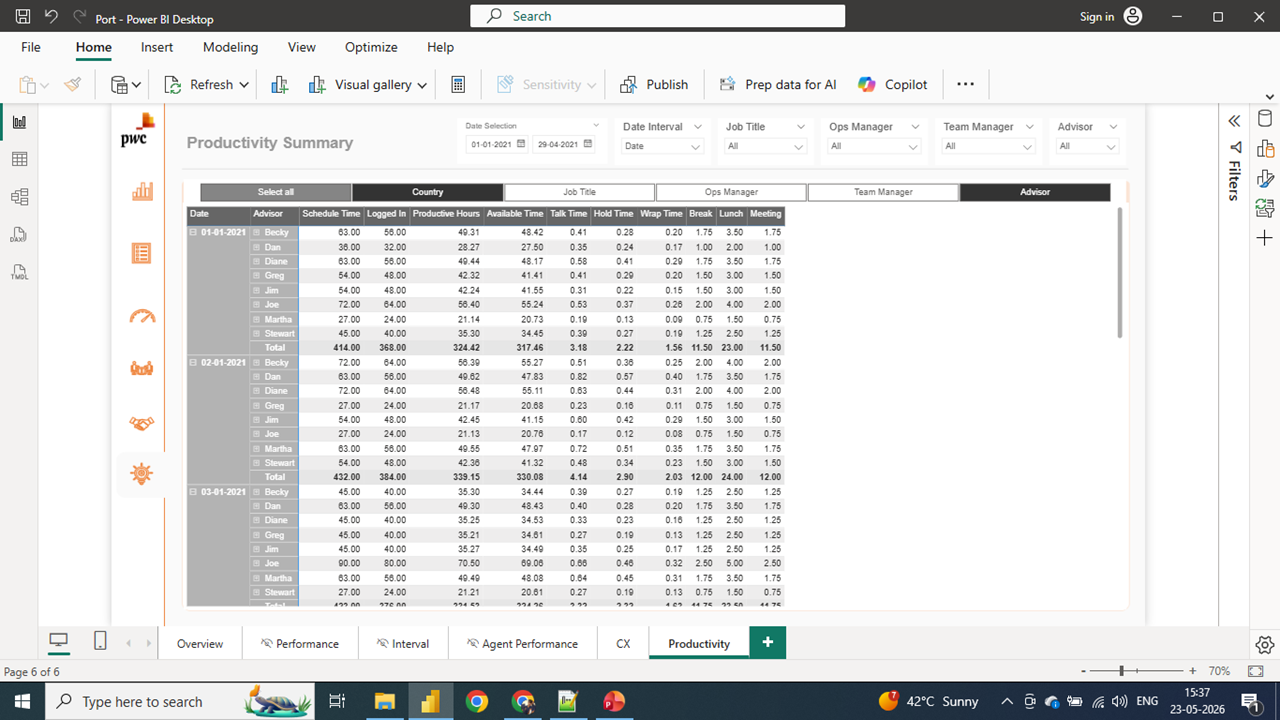

The dashboard page shown, as its layout file describes it:
{"tool":"powerbi","page":{"name":"Productivity","canvas":[1580,800],"ordinal":5},"visuals":[{"type":"slicer","fields":{"Values":["_P_Agent._P_Agent"]},"box":[109.9,115.8,1442.2,38.1],"z":0},{"type":"pivotTable","fields":{"Rows":["Date Calendar.Date","Emp.Employee Name","Emp.County"],"Values":["Measures (2).Schedule Time","Measures (2).Logged In","Measures (2).Productive Hours","Measures (2).Available Time","Measures (2).Talk Time","Measures (2).Hold Time","Measures (2).Wrap Time","Measures (2).Break","Measures (2).Lunch","Measures (2).Meeting"]},"box":[109.9,153.9,1442.2,621.4],"z":1},{"type":"textbox","box":[110.2,40.9,300,45.7],"z":2},{"type":"slicer","fields":{"Values":["_P_Date_Interval._P_Date_Interval"]},"box":[770.1,23.5,146.6,71.8],"z":3},{"type":"slicer","title":"Date Selection","fields":{"Values":["Date Calendar.Date"]},"box":[529.1,23.5,230.1,70.4],"z":4},{"type":"slicer","fields":{"Values":["Emp.Job Title"]},"box":[927.5,23.5,146.6,71.8],"z":5},{"type":"slicer","fields":{"Values":["Emp.Employee Name"]},"box":[1434.9,23.5,117.3,71.8],"z":6},{"type":"slicer","fields":{"Values":["Emp.Employee Name"]},"box":[1259.9,23.5,164.2,71.8],"z":7},{"type":"slicer","fields":{"Values":["Emp.Employee Name"]},"box":[1084.9,23.5,164.2,71.8],"z":8},{"type":"image","box":[1.3,11.3,78.3,58.7],"z":9},{"type":"pageNavigator","box":[0,95.3,85,520.3],"z":10}]}

Visuals, with their boxes on the page's 1580x800 design canvas (x1, y1, x2, y2). These are canvas units, not pixel positions in the 1280x720 screenshot, which may show the page scaled, cropped or inside an application window:
slicer - _P_Agent._P_Agent: [left=110, top=116, right=1552, bottom=154]
pivotTable - Date Calendar.Date x Emp.Employee Name: [left=110, top=154, right=1552, bottom=775]
textbox: [left=110, top=41, right=410, bottom=87]
slicer - _P_Date_Interval._P_Date_Interval: [left=770, top=24, right=917, bottom=95]
"Date Selection" slicer: [left=529, top=24, right=759, bottom=94]
slicer - Emp.Job Title: [left=928, top=24, right=1074, bottom=95]
slicer - Emp.Employee Name: [left=1435, top=24, right=1552, bottom=95]
slicer - Emp.Employee Name: [left=1260, top=24, right=1424, bottom=95]
slicer - Emp.Employee Name: [left=1085, top=24, right=1249, bottom=95]
image: [left=1, top=11, right=80, bottom=70]
pageNavigator: [left=0, top=95, right=85, bottom=616]
